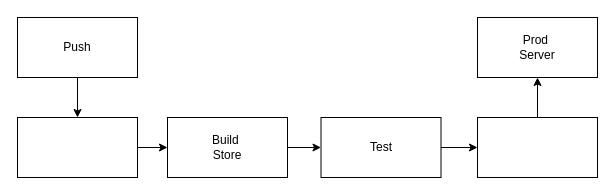
Some shapes in this 615 by 195 pixel diagram are drawn without their labels. The shapes that lost their labels are listed below. From the top down, each one's centre as x and y in pixels, then its label:
At [77,147]: "Lint Check".
At [537,147]: "Deploy".
